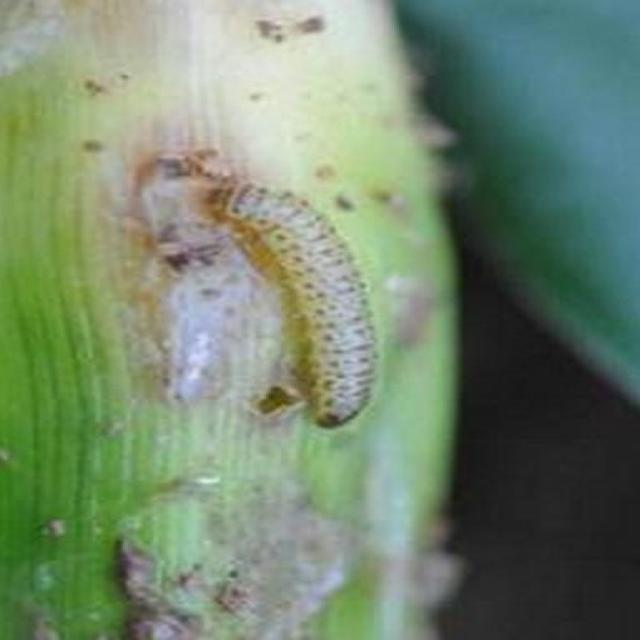peach borer: (205, 180, 385, 435)
